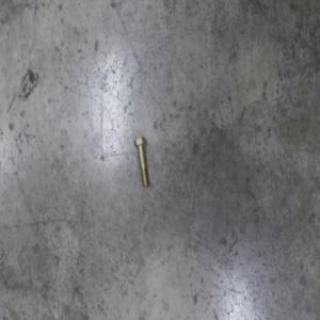Bolttrack_idkeyframe: (133, 134, 148, 187)
